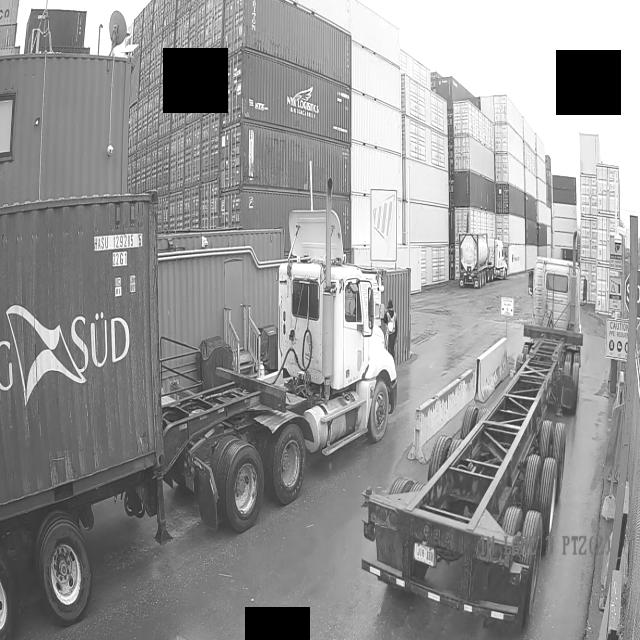container_side_no: (90, 235, 148, 272)
driver: (385, 299, 397, 358)
truck_with_container: (0, 194, 396, 640)
truck_without_container: (362, 232, 587, 630)
